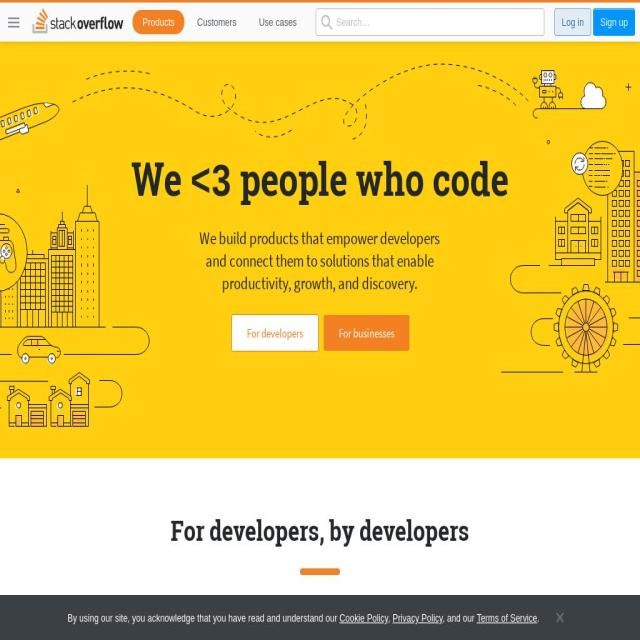button: (28, 3, 132, 42), (230, 314, 318, 352), (323, 315, 409, 351), (187, 10, 247, 34), (249, 10, 307, 34), (133, 10, 185, 34), (593, 8, 635, 36), (554, 8, 592, 36)
field: (315, 8, 545, 36)
heading: (32, 512, 608, 548), (231, 148, 509, 208), (131, 148, 191, 208), (190, 158, 232, 210)
image: (300, 568, 340, 575)
link: (251, 595, 326, 613), (477, 611, 538, 624), (339, 611, 389, 624), (393, 611, 443, 624)
text: (188, 227, 452, 294), (158, 595, 482, 640), (68, 611, 340, 624), (32, 7, 126, 34), (161, 595, 251, 613), (442, 611, 478, 624), (388, 611, 392, 624), (537, 611, 539, 624)
